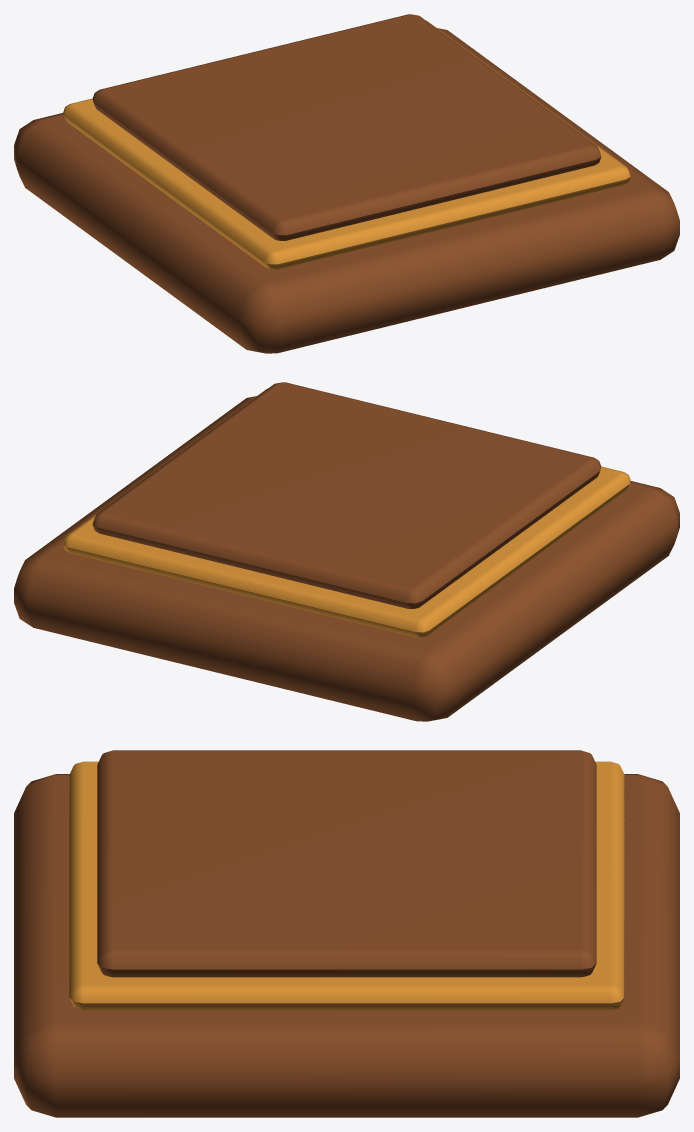
File: Board_Cell.fbx
3 views of the same model, one above another, from view 1: azimuth 30°, elevation 25°; view 2: azimuth 150°, elevation 25°; view 3: azimuth 270°, elevation 25° (orthographic). The views are drawn at different scales.
Visible parts, largest first — view 1: Cell_surface, Cell_wood, Cell_inlay; view 2: Cell_surface, Cell_wood, Cell_inlay; view 3: Cell_surface, Cell_wood, Cell_inlay.
Boxes of the visible parts, x1,y1,x2,y2 form: Cell_surface: (92,14,601,240); Cell_wood: (14,28,679,353); Cell_inlay: (63,20,630,269); Cell_surface: (92,382,601,608); Cell_wood: (14,396,679,721); Cell_inlay: (63,388,630,637); Cell_surface: (97,750,596,977); Cell_wood: (14,774,679,1117); Cell_inlay: (69,761,624,1010).
Size of the model in its own units: 96 by 22.75 by 96.
